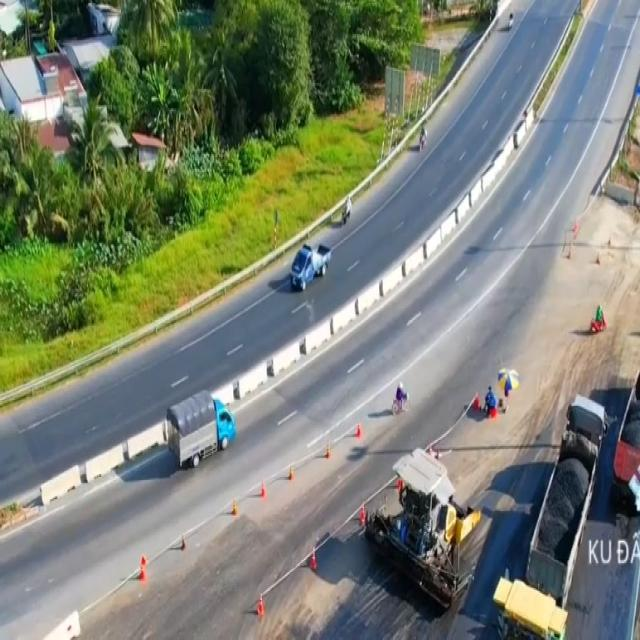motorbike: (591, 304, 606, 336)
truck: (165, 393, 234, 468), (289, 241, 332, 291)
